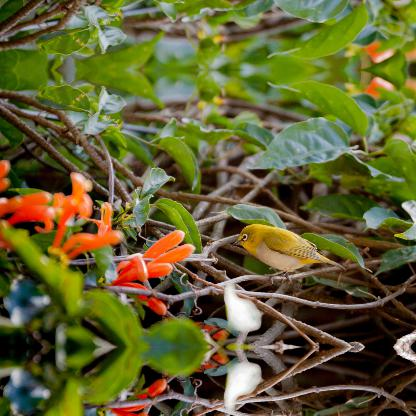Bird: (226, 226, 328, 282)
